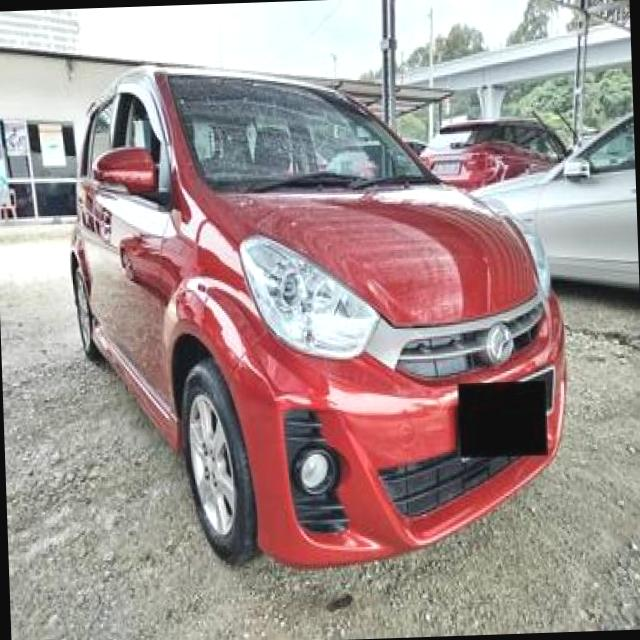PeroduaMyvi: (59, 46, 574, 576)
